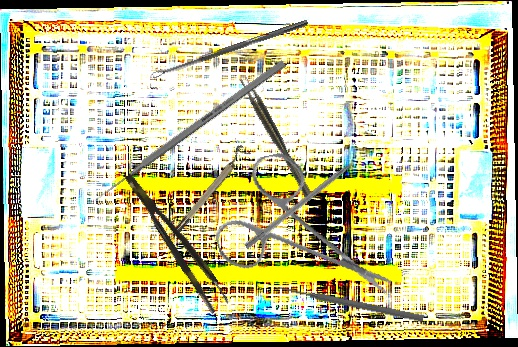Fixation Ring: (167, 143, 252, 237)
Iris Scissors: (199, 134, 394, 330)
Pusher: (91, 59, 287, 204), (243, 149, 371, 251), (276, 282, 425, 324)
Surgical Spoon: (151, 18, 309, 79)
Tissue Forceps: (122, 165, 232, 315), (238, 75, 314, 203)
